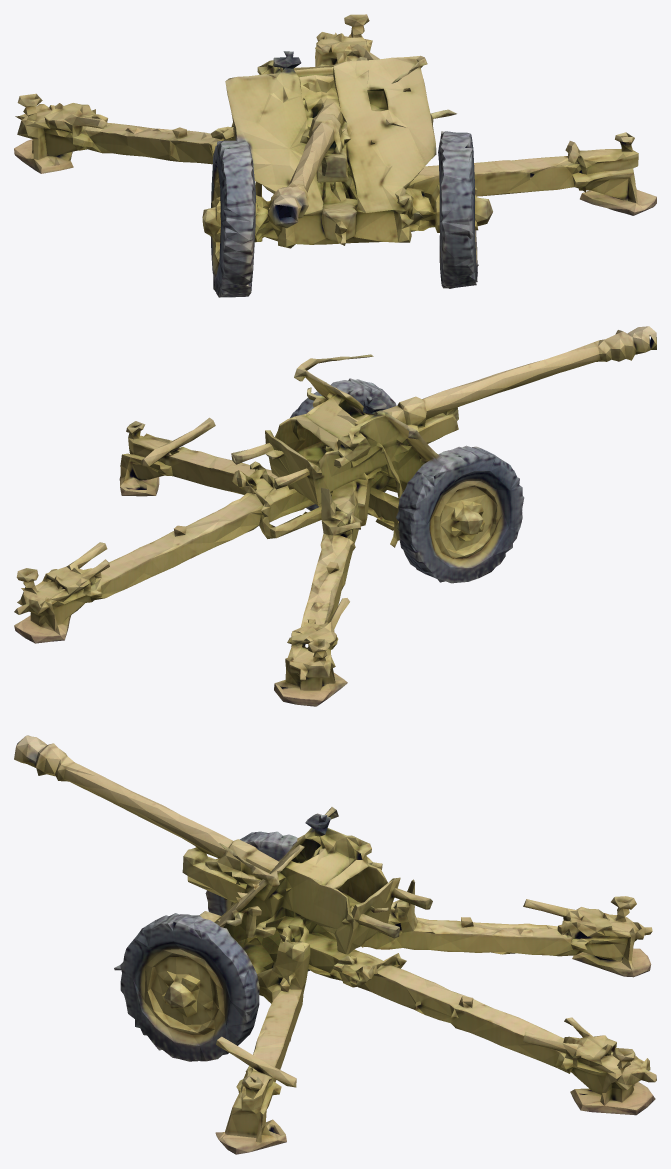
Rendered from pak40_hull.obj.
The picture shows the model from 3 angles, top to bottom: view 1: azimuth 30°, elevation 25°; view 2: azimuth 150°, elevation 25°; view 3: azimuth 270°, elevation 25°; orthographic projection. The views are drawn at different scales.
Parts seen in each view (by area): view 1: pak40_hull; view 2: pak40_hull; view 3: pak40_hull.
Part boxes in pixels (x1,y1,x2,y2): pak40_hull: (14, 14, 656, 297); pak40_hull: (14, 326, 656, 706); pak40_hull: (14, 735, 656, 1154).
Bounding box in the file's own units: 4.84 × 1.92 × 5.7.
1 material, 1 textured.
